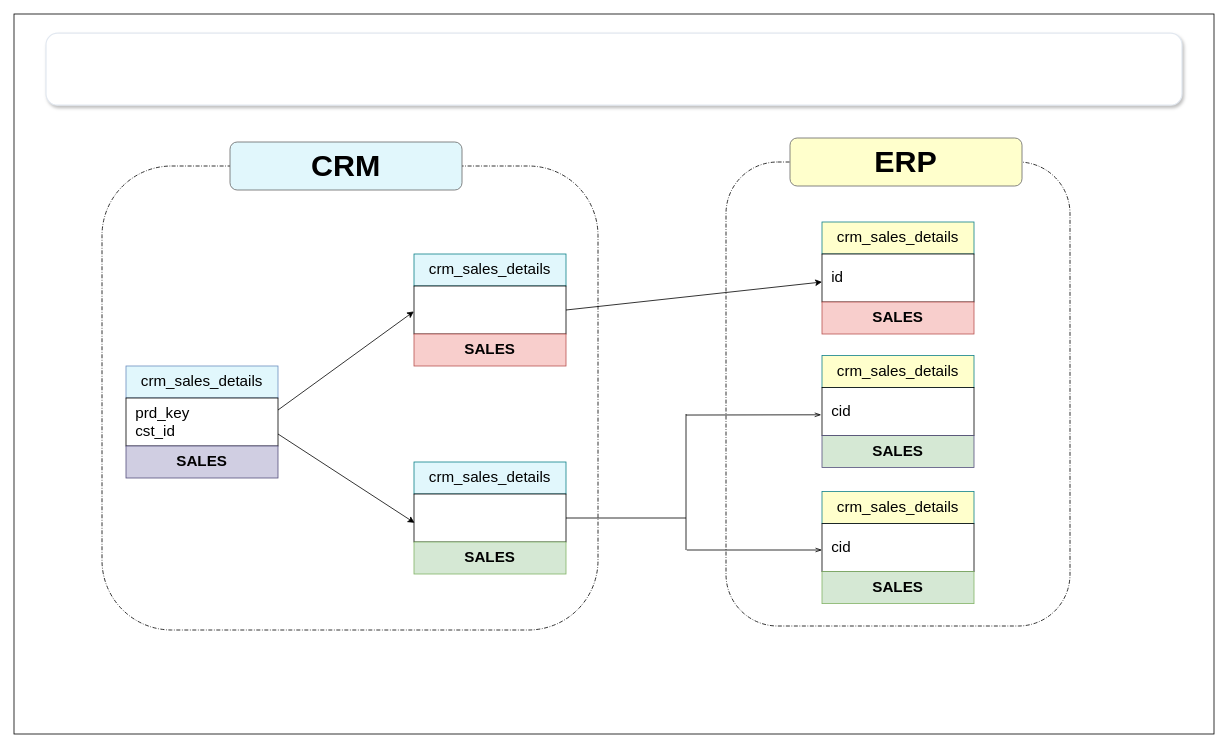
Some shapes in this 1228 by 748 pixel diagram are drawn without their labels. Here are the shapes that lost their labels. From the top down, the centre of each, then its label:
At point (614, 70): "DATA INTEGRATION HOW THE TABLES ARE RELATED".
At point (489, 309): "prd_key".
At point (489, 517): "cst_id cst_key".
